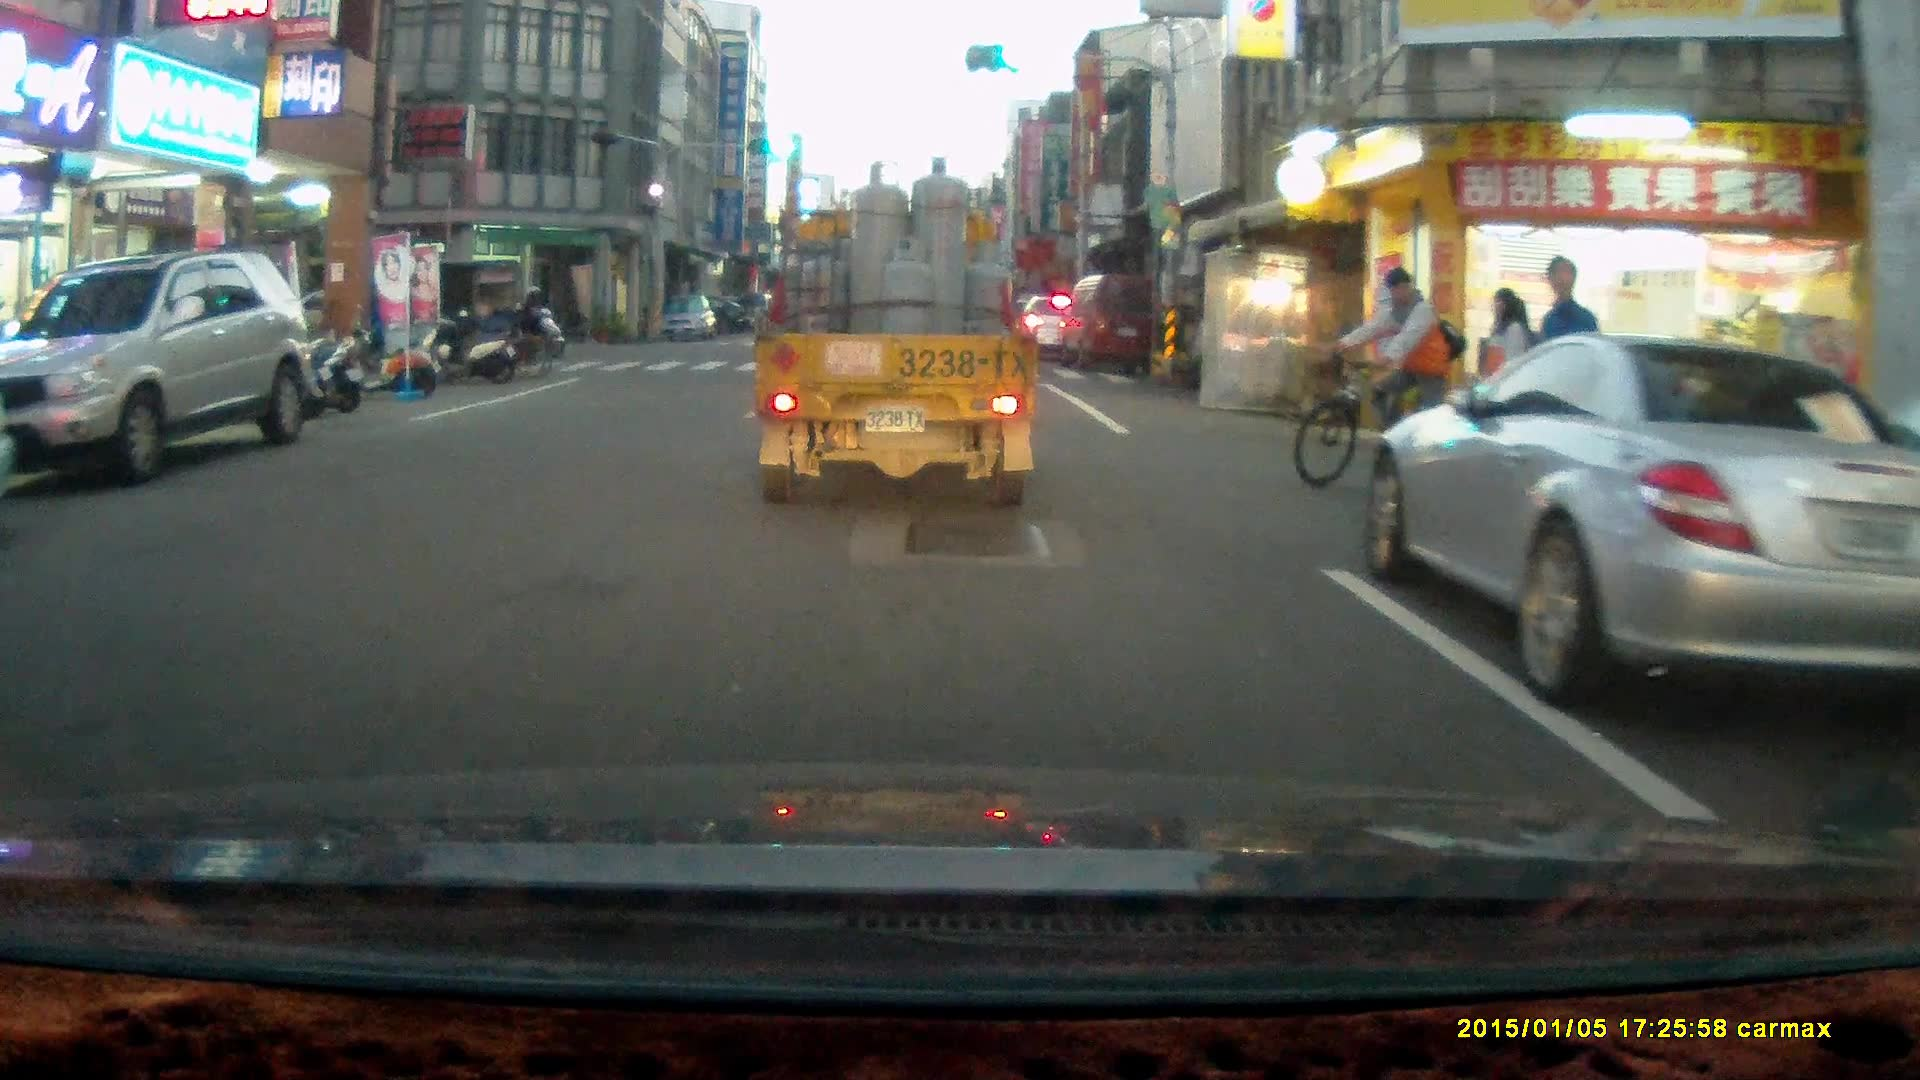pedestrian: (1532, 253, 1604, 504), (1483, 284, 1533, 467)
rider: (1296, 266, 1488, 492), (497, 282, 562, 364)
vehicle: (1365, 334, 1920, 705), (752, 161, 1038, 516), (2, 247, 320, 487), (333, 260, 520, 365), (1063, 274, 1166, 374), (1019, 297, 1088, 361), (655, 291, 720, 348)
